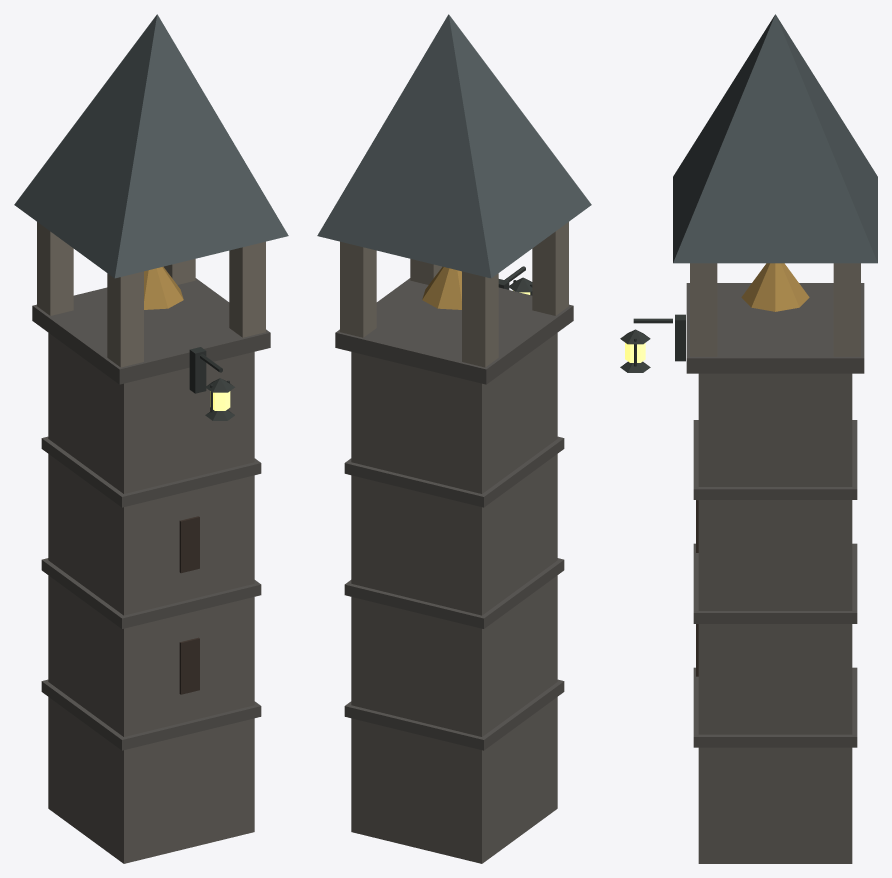
Rendered from bell_tower.glb.
The picture shows the model from 3 angles, left to right: view 1: azimuth 30°, elevation 25°; view 2: azimuth 150°, elevation 25°; view 3: azimuth 270°, elevation 25°; orthographic projection.
Parts seen in each view (by area): view 1: tower shaft, steep spire, belfry floor, belfry pier, belfry pier.002, string course, string course.002, string course.001, belfry pier.001, hanging bell, narrow lancet, narrow lancet.001 (+2 smaller); view 2: tower shaft, steep spire, belfry floor, belfry pier.001, belfry pier.003, string course, string course.002, string course.001, belfry pier, hanging bell, belfry pier.002; view 3: tower shaft, steep spire, belfry floor, string course, string course.002, string course.001, belfry pier.002, belfry pier.003, hanging bell, belfry lantern/wall bracket.
Boxes of the visible parts, x1=… form: tower shaft: x1=48, y1=333, x2=254, y2=863; steep spire: x1=14, y1=14, x2=288, y2=278; belfry floor: x1=32, y1=278, x2=270, y2=384; belfry pier: x1=107, y1=271, x2=143, y2=367; belfry pier.002: x1=229, y1=241, x2=265, y2=337; string course: x1=41, y1=679, x2=261, y2=750; string course.002: x1=41, y1=436, x2=261, y2=507; string course.001: x1=41, y1=558, x2=261, y2=628; belfry pier.001: x1=37, y1=222, x2=73, y2=315; hanging bell: x1=144, y1=266, x2=183, y2=309; narrow lancet: x1=179, y1=637, x2=199, y2=694; narrow lancet.001: x1=179, y1=516, x2=199, y2=573; tower shaft: x1=351, y1=333, x2=557, y2=863; steep spire: x1=317, y1=14, x2=591, y2=278; belfry floor: x1=335, y1=278, x2=573, y2=384; belfry pier.001: x1=462, y1=271, x2=498, y2=367; belfry pier.003: x1=340, y1=241, x2=376, y2=337; string course: x1=344, y1=679, x2=564, y2=750; string course.002: x1=344, y1=436, x2=564, y2=507; string course.001: x1=344, y1=558, x2=564, y2=628; belfry pier: x1=532, y1=222, x2=568, y2=315; hanging bell: x1=422, y1=266, x2=461, y2=309; belfry pier.002: x1=410, y1=259, x2=441, y2=284; tower shaft: x1=698, y1=373, x2=852, y2=863; steep spire: x1=673, y1=14, x2=877, y2=263; belfry floor: x1=686, y1=283, x2=864, y2=373; string course: x1=693, y1=667, x2=857, y2=747; string course.002: x1=693, y1=420, x2=857, y2=499; string course.001: x1=693, y1=543, x2=857, y2=623; belfry pier.002: x1=690, y1=263, x2=717, y2=356; belfry pier.003: x1=833, y1=263, x2=860, y2=356; hanging bell: x1=741, y1=263, x2=809, y2=311; belfry lantern/wall bracket: x1=675, y1=314, x2=685, y2=361.
Bounding box in the file's own units: 1.2 × 5.3 × 1.51.
